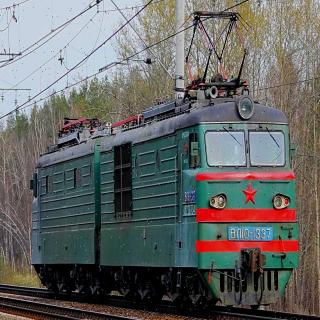poezd: (33, 90, 297, 306)
